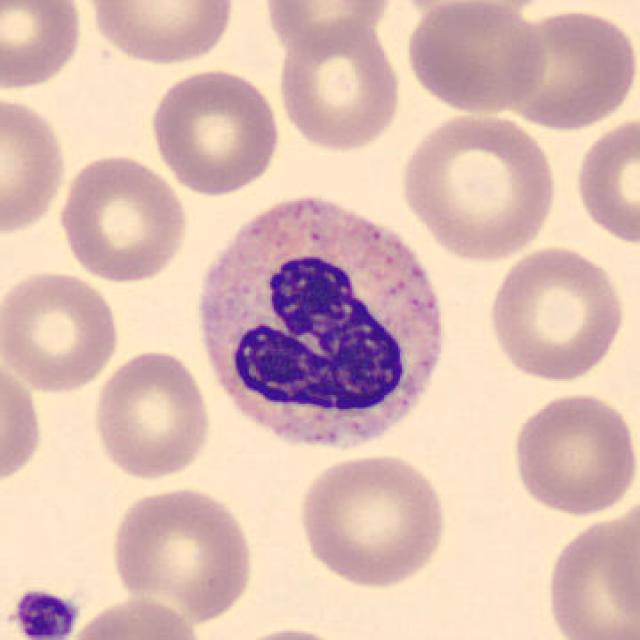Neutrophil: (187, 185, 457, 467)
Platelets: (7, 585, 84, 640)
RBC: (394, 108, 562, 264), (294, 450, 452, 590), (106, 483, 258, 622), (483, 242, 628, 384), (55, 150, 192, 286), (272, 20, 405, 156), (146, 65, 282, 196), (500, 4, 638, 132), (87, 346, 215, 483), (401, 0, 551, 116), (506, 388, 636, 518), (0, 266, 123, 395), (540, 506, 638, 640), (84, 0, 238, 67), (0, 91, 69, 238), (570, 110, 640, 250), (0, 0, 85, 93), (257, 0, 396, 56), (62, 594, 204, 640), (0, 352, 46, 493), (391, 0, 557, 23), (219, 622, 361, 640)
